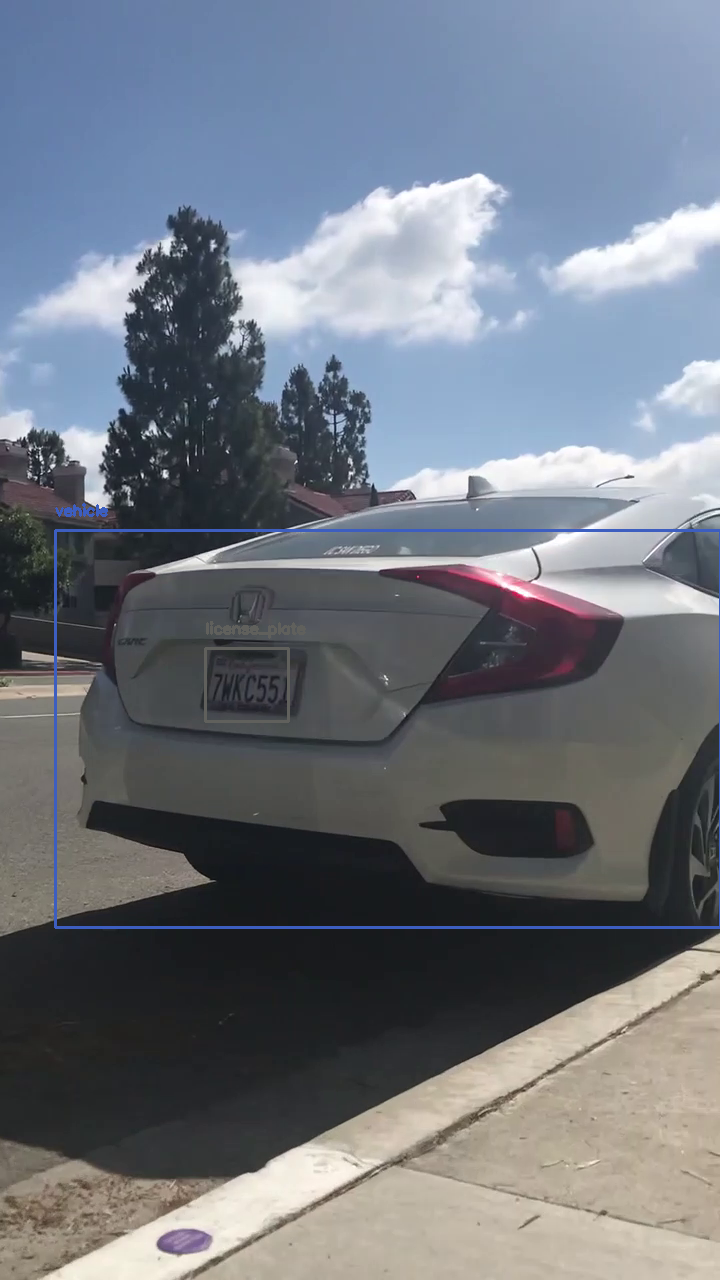license_plate: (205, 648, 288, 721)
vehicle: (55, 530, 720, 927)
